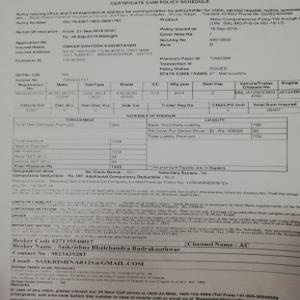table: (14, 117, 291, 174), (15, 78, 300, 112)
text: (12, 1, 300, 78), (12, 175, 300, 240)
